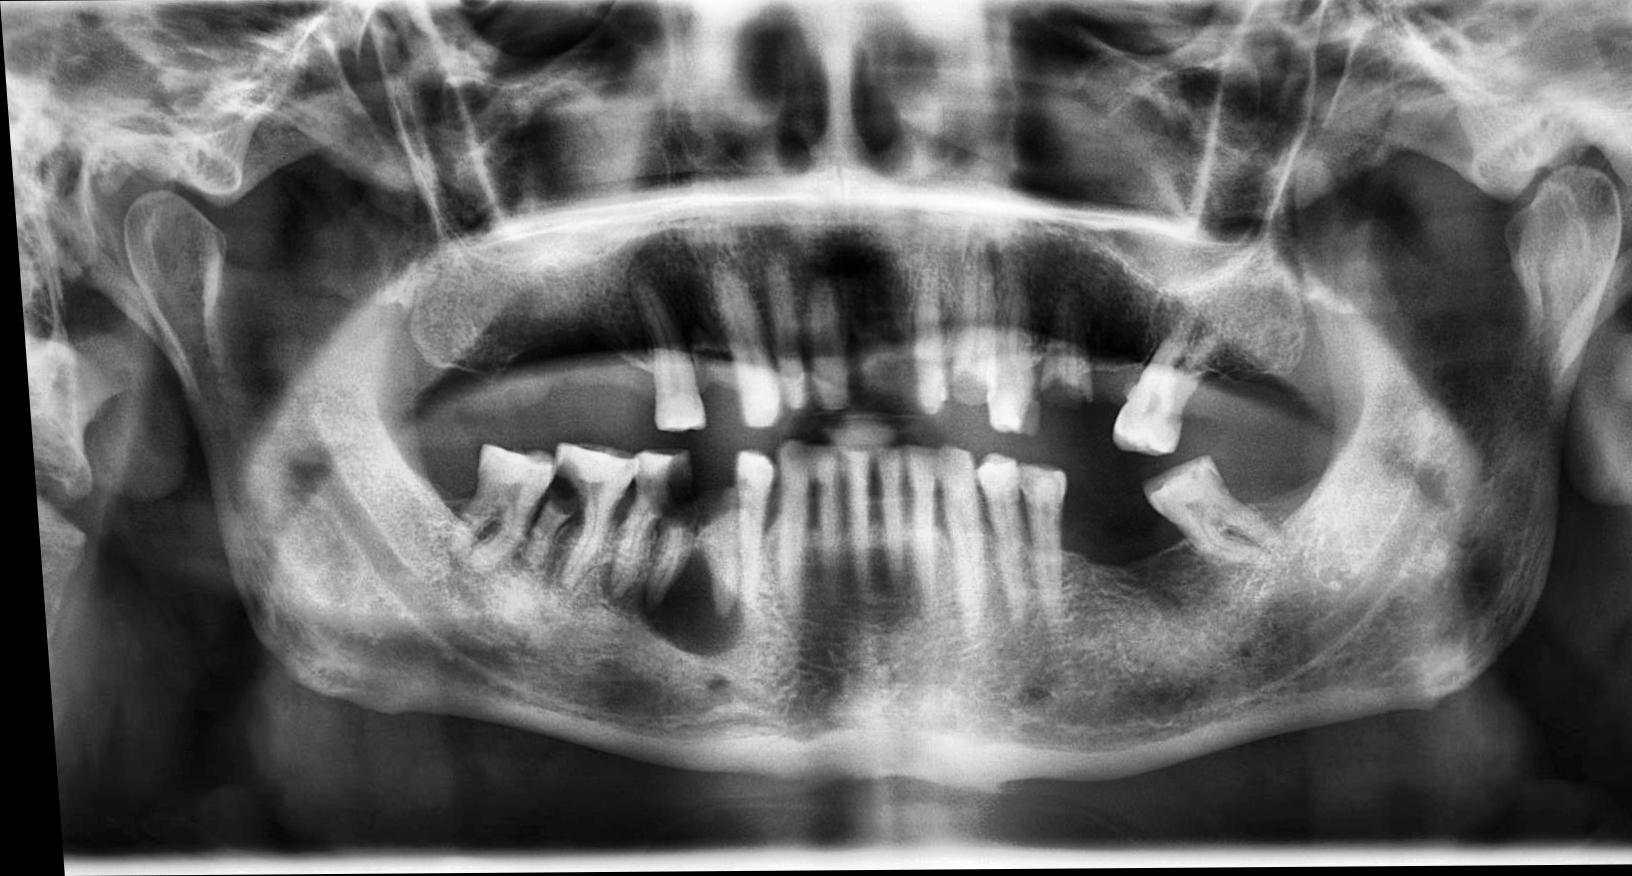radikuler: (585, 542, 738, 660)
